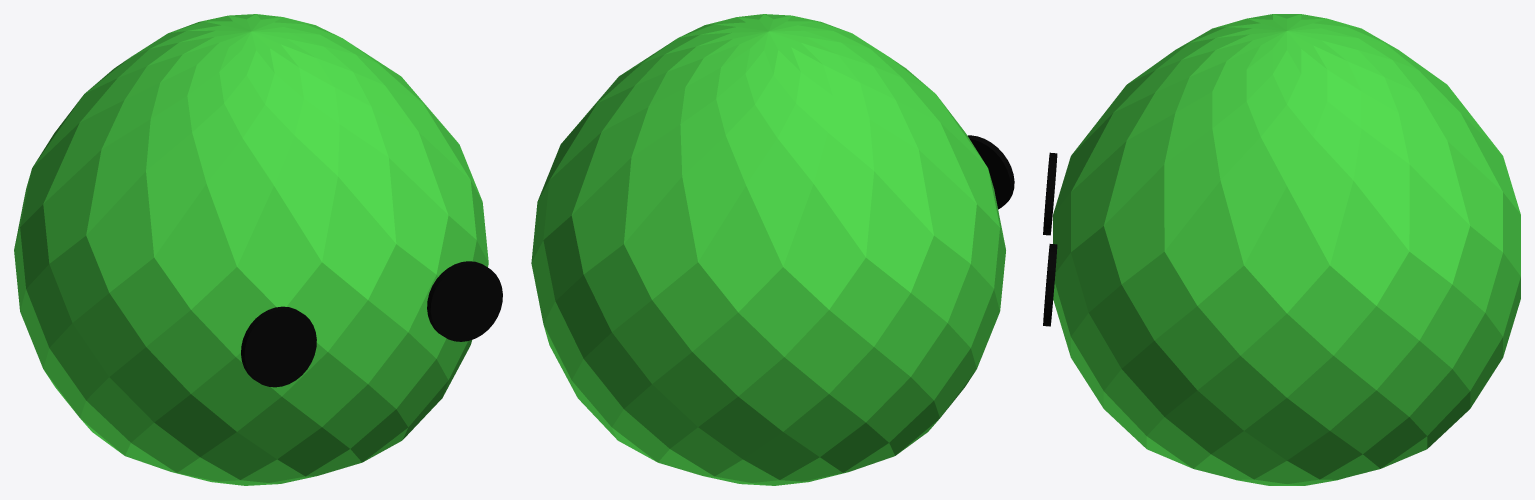
Rendered from Prot-Slime.fbx.
The picture shows the model from 3 angles, left to right: view 1: azimuth 30°, elevation 25°; view 2: azimuth 150°, elevation 25°; view 3: azimuth 270°, elevation 25°; orthographic projection.
Visible parts, largest first — view 1: Sphere; view 2: Sphere; view 3: Sphere.
Boxes of the visible parts, left/top/right/bottom form: Sphere: left=14, top=14, right=502, bottom=485; Sphere: left=531, top=14, right=1014, bottom=485; Sphere: left=1043, top=14, right=1520, bottom=485.
Size of the model in its own units: 200 by 204 by 204.
